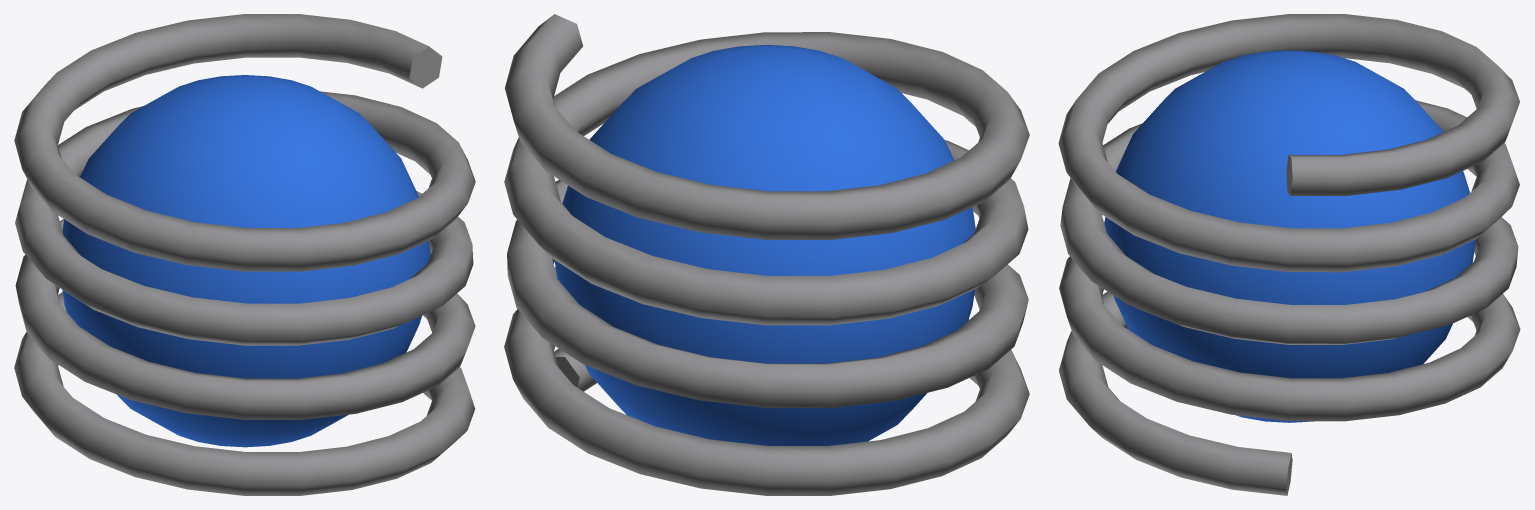
The model's file is Kit_Joint_Spring.glb.
3 renders of one model, left to right at view 1: azimuth 30°, elevation 25°; view 2: azimuth 150°, elevation 25°; view 3: azimuth 270°, elevation 25°, orthographic. The views are drawn at different scales.
Visible parts, largest first — view 1: Kit_Joint_Spring; view 2: Kit_Joint_Spring; view 3: Kit_Joint_Spring.
Boxes of the visible parts, box(x1,y1,x2,y2) form: Kit_Joint_Spring: box(14, 14, 475, 495); Kit_Joint_Spring: box(504, 14, 1029, 495); Kit_Joint_Spring: box(1058, 14, 1520, 495).
Bounding box in the file's own units: 2.1 × 1.7 × 2.1.
